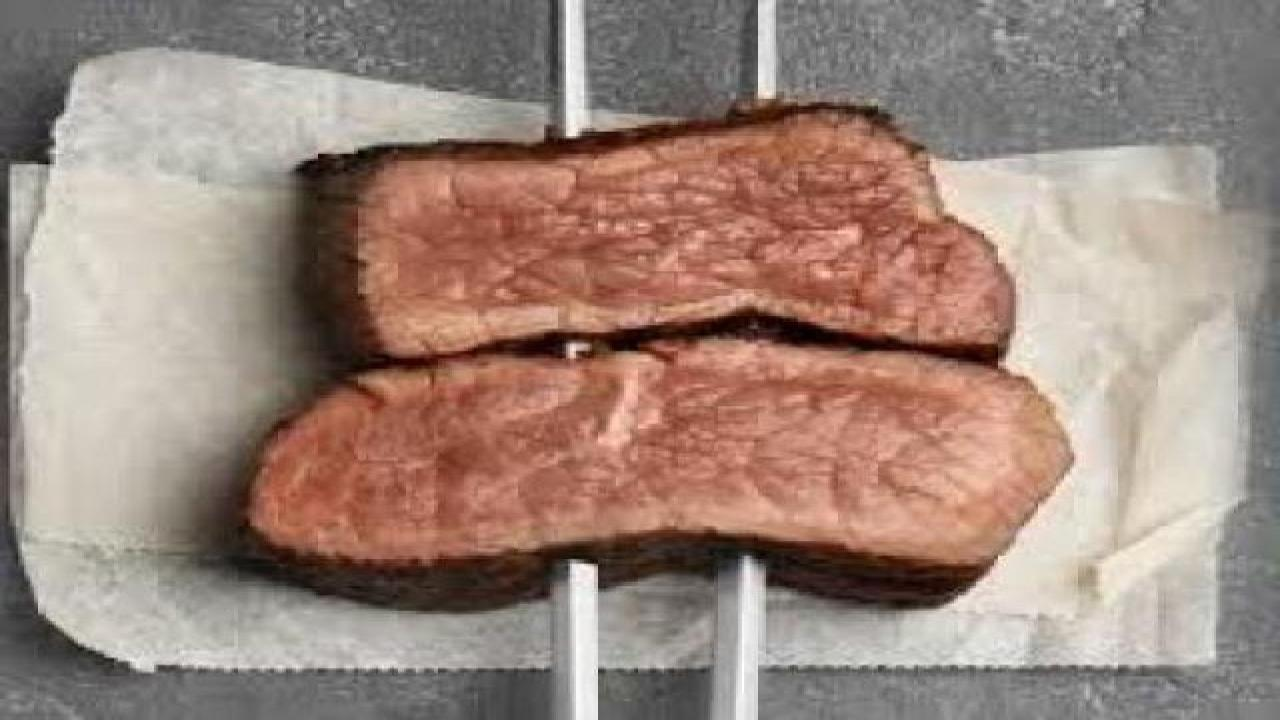done: (123, 343, 1157, 627), (303, 69, 1066, 347)
